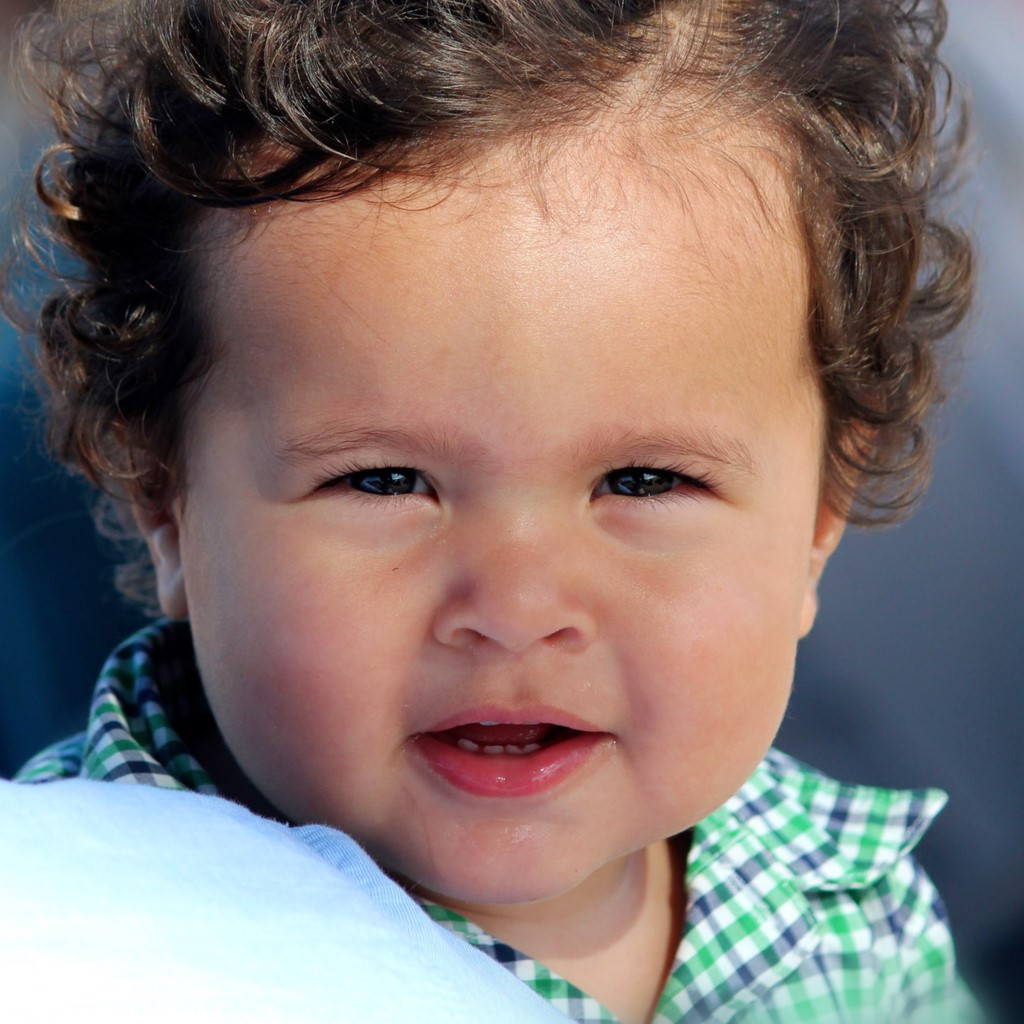sin_mascara: (127, 35, 841, 876)
